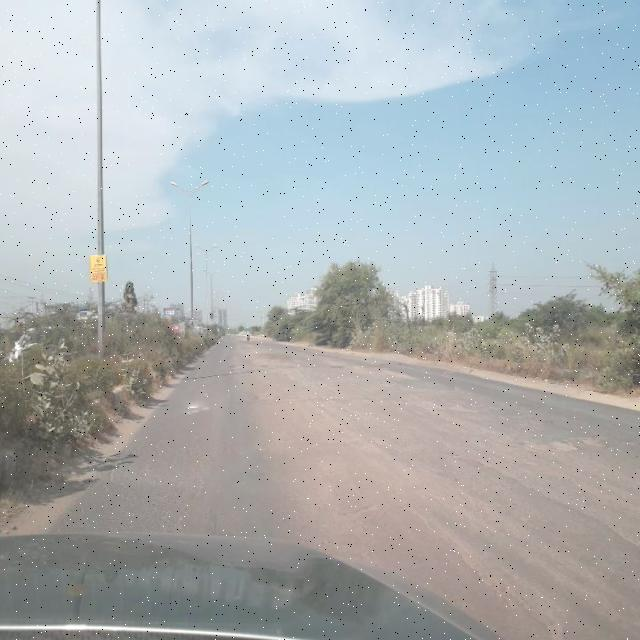D00: (473, 452, 638, 548)
D10: (242, 389, 419, 411)
D20: (63, 437, 235, 519)
D40: (403, 498, 566, 628), (518, 424, 618, 458), (248, 353, 354, 380), (425, 385, 501, 421)
